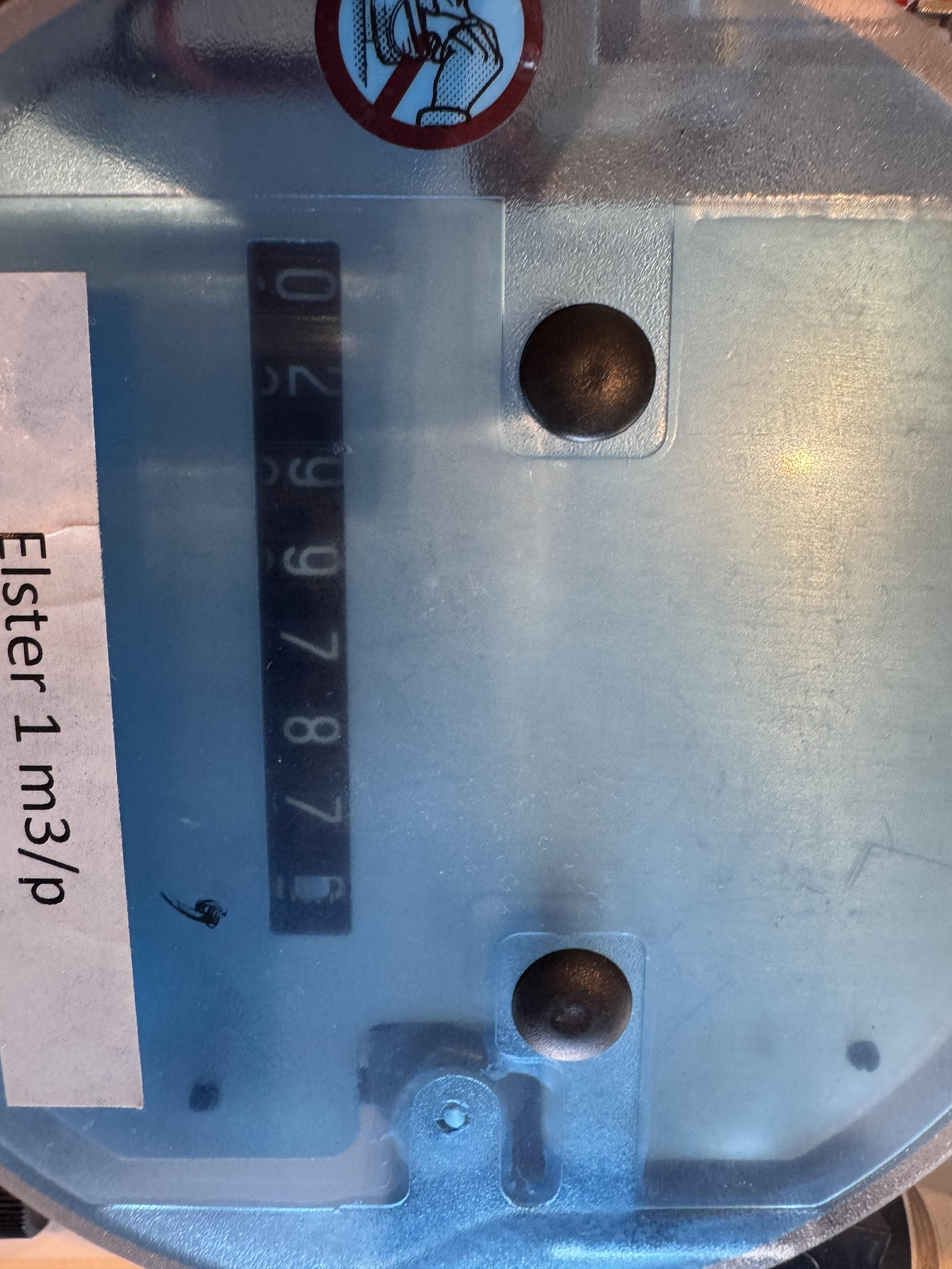analog_dial: (166, 231, 363, 946)
